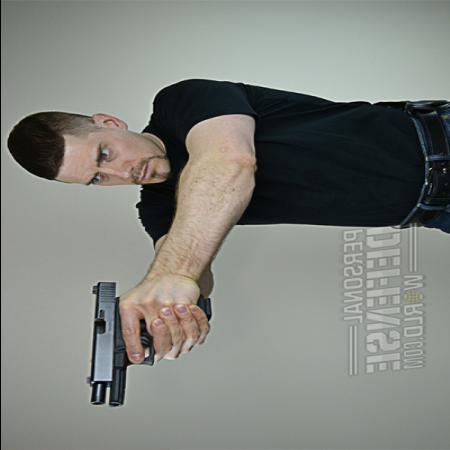Pistol: (86, 280, 212, 410)
